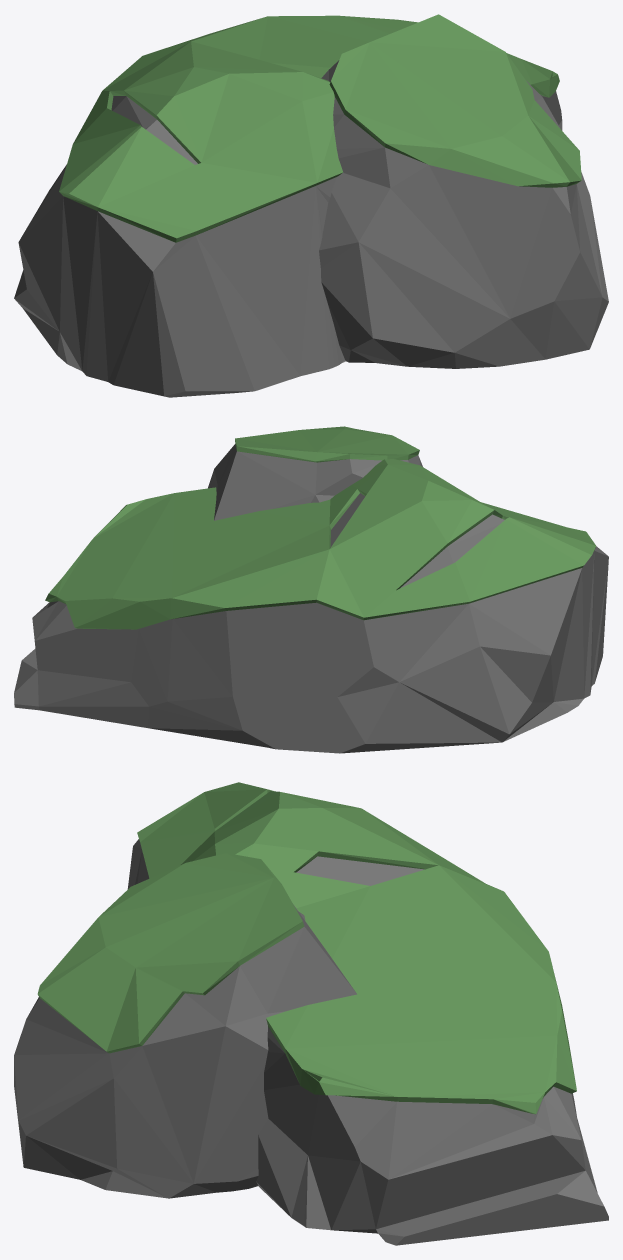
File: Mossy stone 3.fbx
3 views of the same model, one above another, from view 1: azimuth 30°, elevation 25°; view 2: azimuth 150°, elevation 25°; view 3: azimuth 270°, elevation 25° (orthographic). The views are drawn at different scales.
Visible parts, largest first — view 1: Mossy stone 3; view 2: Mossy stone 3; view 3: Mossy stone 3.
Boxes of the visible parts, x1=… form: Mossy stone 3: x1=14, y1=14, x2=608, y2=397; Mossy stone 3: x1=14, y1=426, x2=608, y2=753; Mossy stone 3: x1=14, y1=782, x2=608, y2=1245.
Size of the model in its own units: 4.13 by 1.67 by 3.68.
